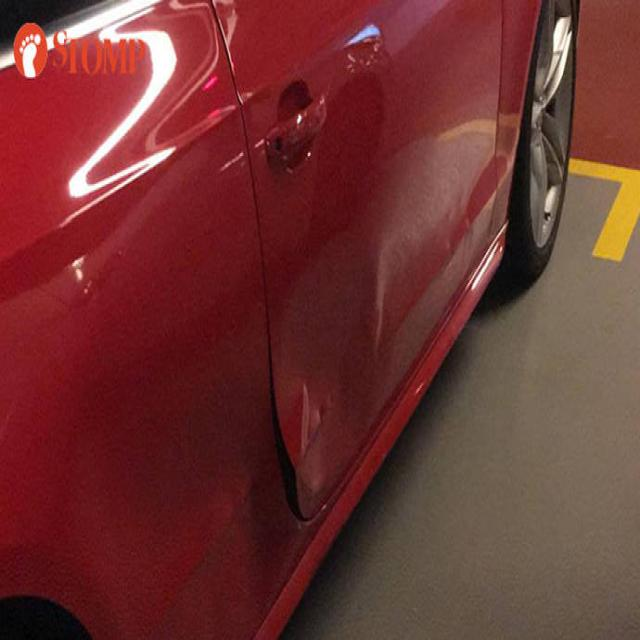dent: (267, 53, 474, 516)
misalignment: (268, 353, 306, 524)
